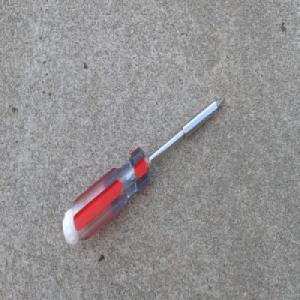Screwdriver: (62, 94, 227, 246)
